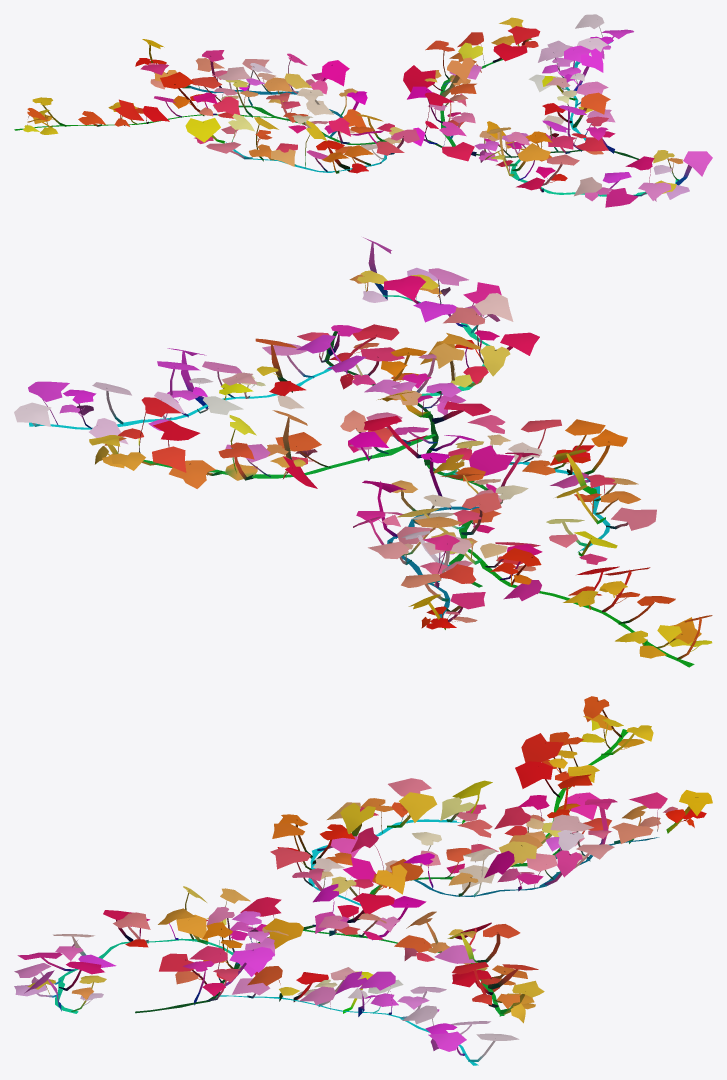
Rendered from English_Ivy_xfcnebhqx_High_xfcnebhqx_VarA_LOD2.fbx.
3 views of the same model, one above another, from view 1: azimuth 30°, elevation 25°; view 2: azimuth 150°, elevation 25°; view 3: azimuth 270°, elevation 25° (orthographic). The views are drawn at different scales.
Visible parts, largest first — view 1: _g0ev_VarA_LOD2; view 2: _g0ev_VarA_LOD2; view 3: _g0ev_VarA_LOD2.
Part boxes in pixels (x1,y1,x2,y2): _g0ev_VarA_LOD2: (14,14,712,207); _g0ev_VarA_LOD2: (14,237,712,667); _g0ev_VarA_LOD2: (14,696,712,1065).
Bounding box in the file's own units: 175 × 13.46 × 150.
